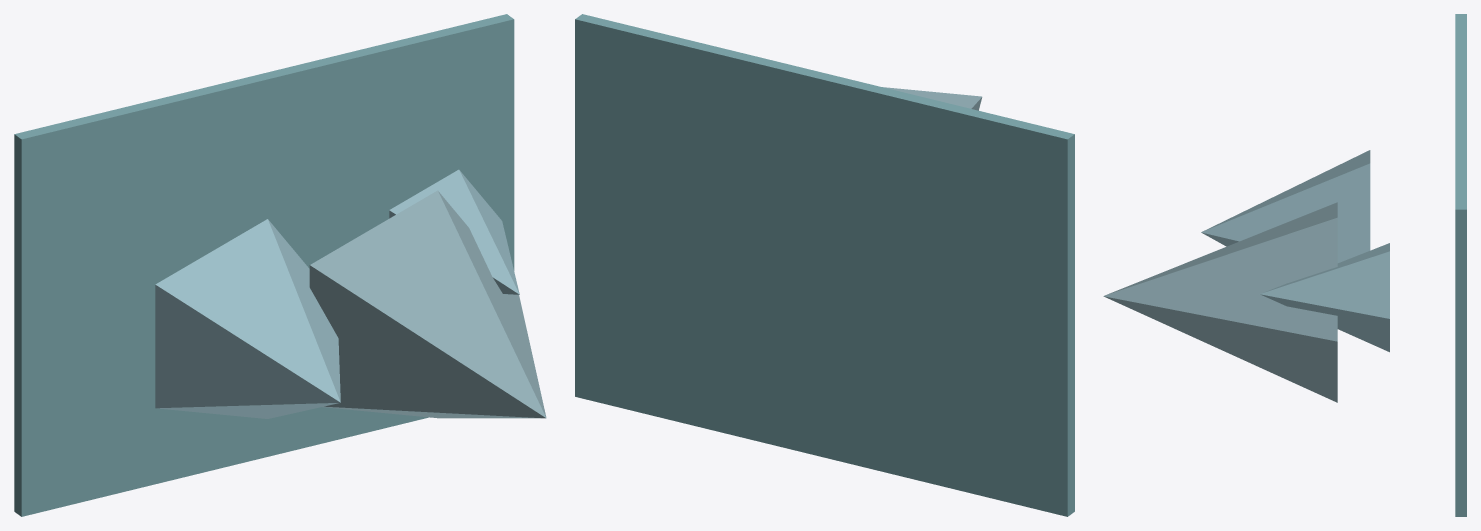
The picture shows the model from 3 angles, left to right: view 1: azimuth 30°, elevation 25°; view 2: azimuth 150°, elevation 25°; view 3: azimuth 270°, elevation 25°; orthographic projection. The views are drawn at different scales.
Visible parts, largest first — view 1: section_00, section_02, section_01, section_03; view 2: section_00, section_02; view 3: section_02, section_01, section_03, section_00.
Boxes of the visible parts, bbox=[...] form: section_00: bbox=[14, 14, 514, 516]; section_02: bbox=[309, 190, 546, 418]; section_01: bbox=[155, 219, 340, 418]; section_03: bbox=[389, 169, 519, 294]; section_00: bbox=[575, 14, 1074, 516]; section_02: bbox=[882, 87, 982, 110]; section_02: bbox=[1103, 202, 1337, 402]; section_01: bbox=[1201, 150, 1370, 262]; section_03: bbox=[1260, 243, 1389, 352]; section_00: bbox=[1455, 14, 1466, 516].
Size of the model in its own units: 7.1 by 5.2 by 5.58.
